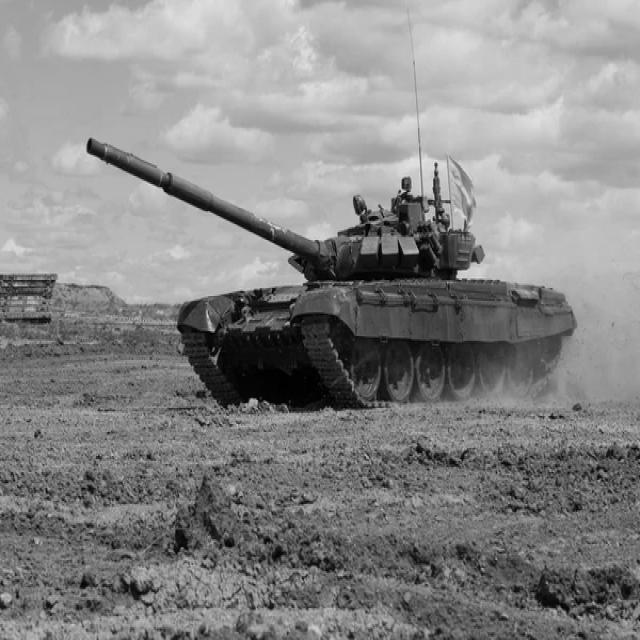Tank: (84, 129, 579, 401)
